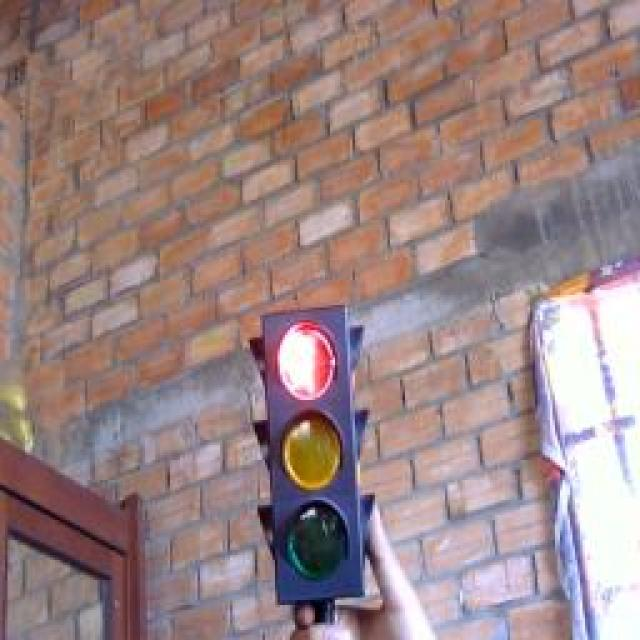-: (267, 316, 350, 406)
